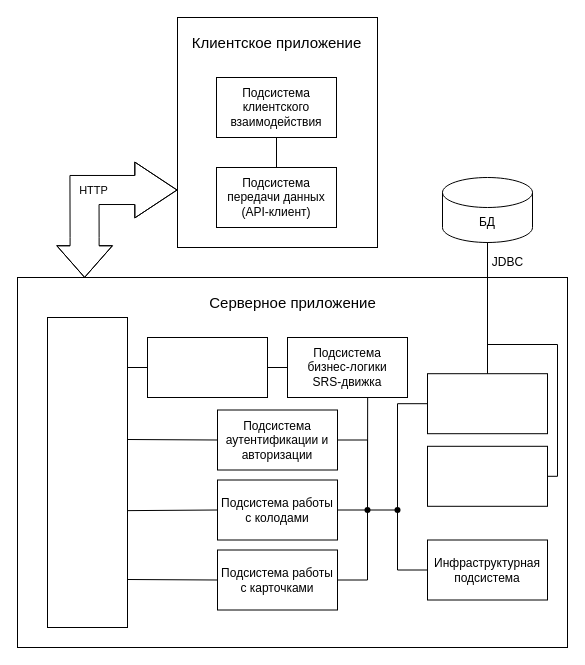
The diagram is 585 pixels wide and 665 high, and some of its shapes have lost their labels. Here are the shapes that lost their labels. From the top down, the centre of each, then its label:
At (207,367): "Подсистема режима повторения".
At (487,403): "Подсистема доступа к данным".
At (87,472): "Подсистема API-слоя (GraphQL)".
At (487,475): "Подсистема управления схемой БД".
